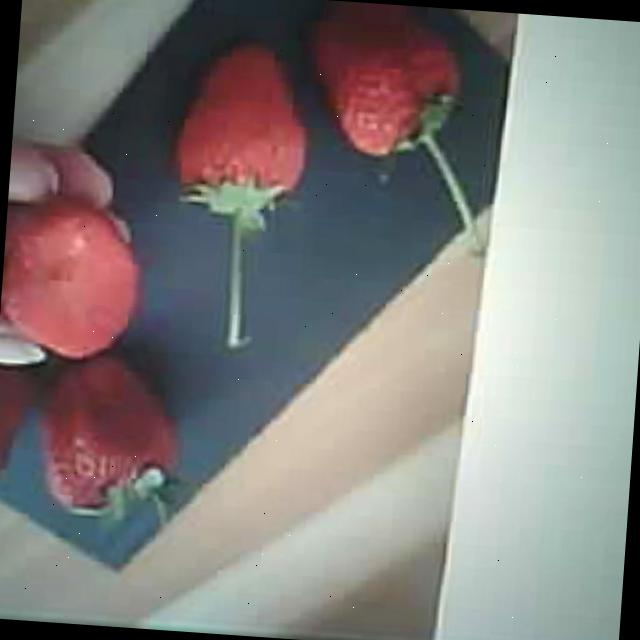strawberry: (38, 352, 181, 524), (313, 0, 462, 160), (178, 36, 310, 210)
